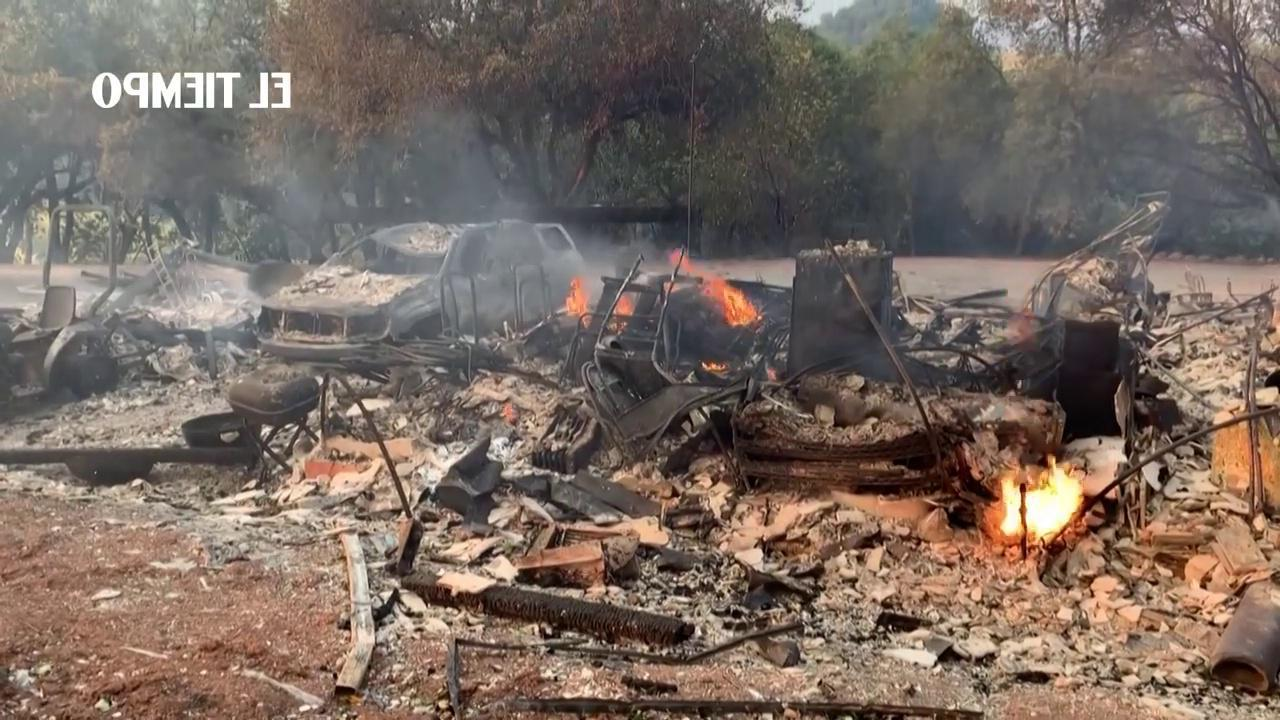Fire: (994, 463, 1087, 537), (715, 283, 762, 327), (564, 279, 587, 314), (700, 356, 733, 373)
